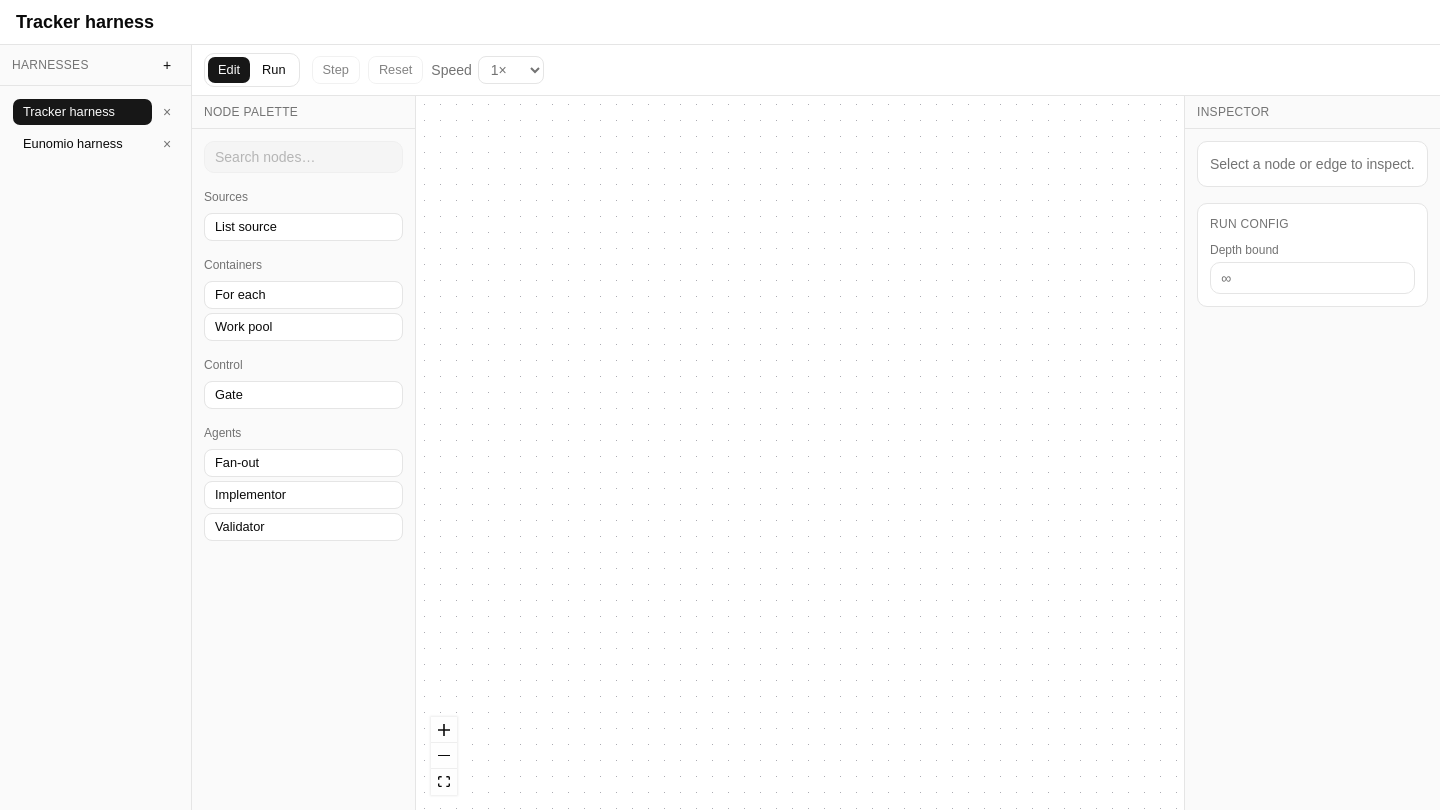
harness sidebar › renames a harness via Enter and updates the title
Double-click the button "Tracker harness" at (82, 112), box [12,98,153,126]
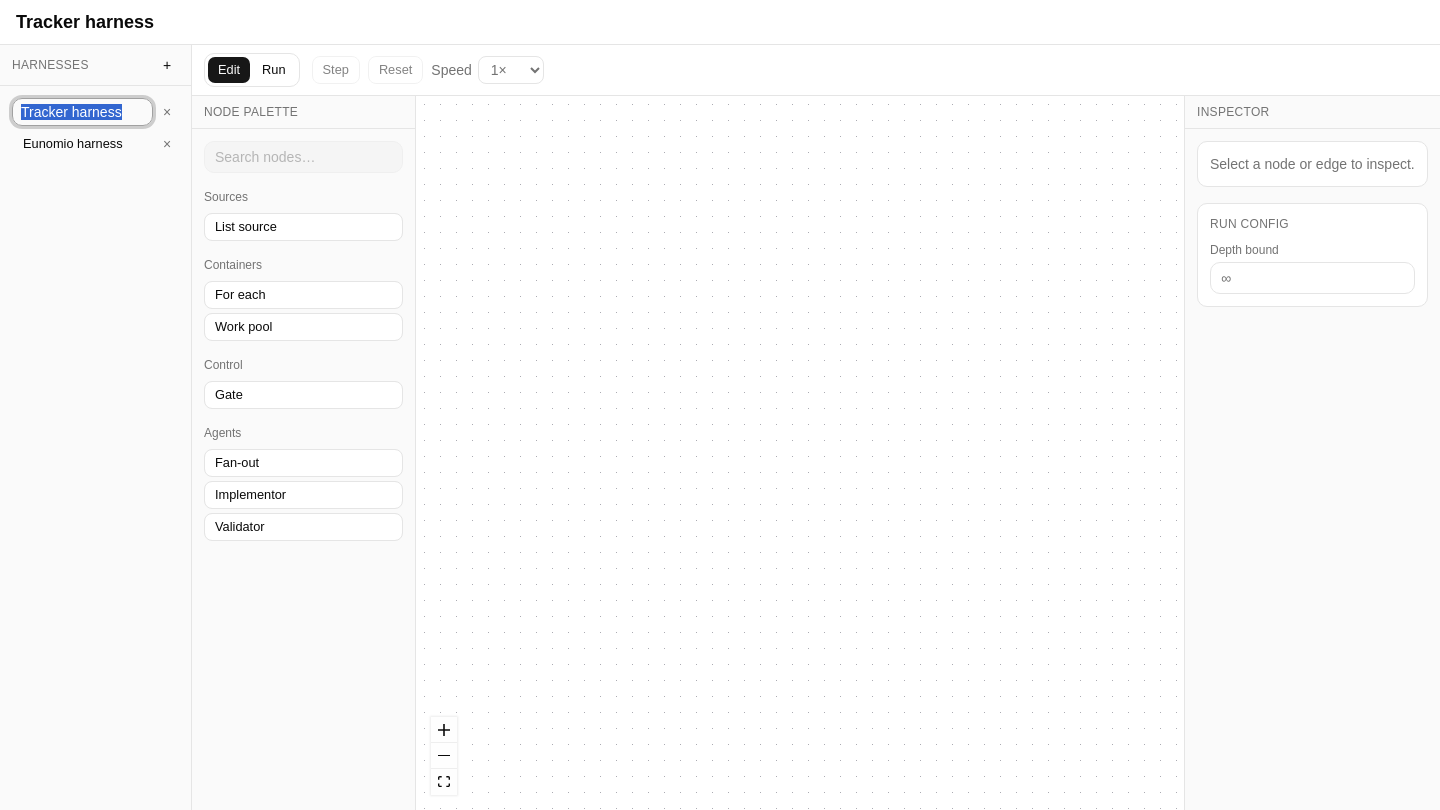
Replace the text in the field named "Rename Tracker harness" with "My Tracker" at (82, 112), box [12,98,153,126]
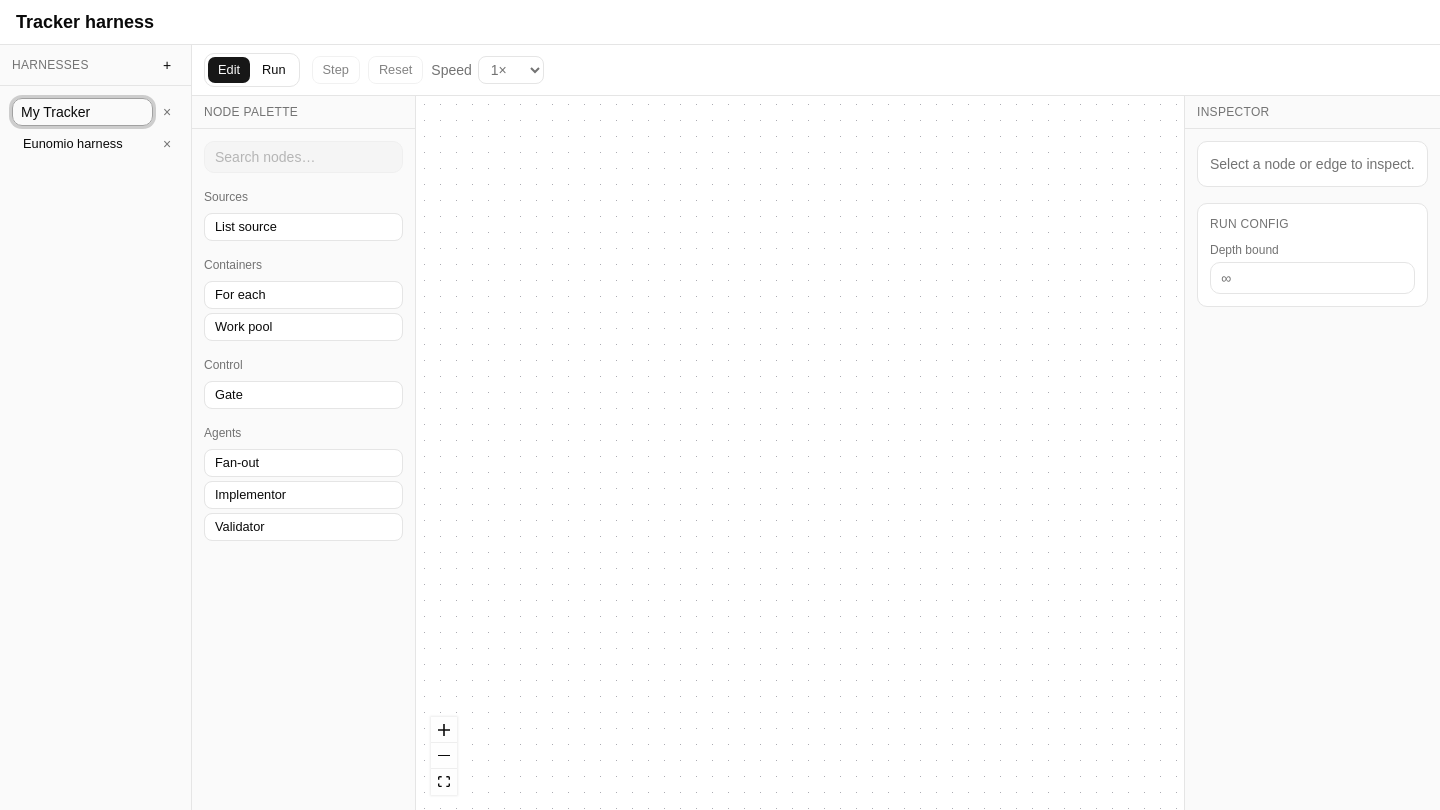
Press Enter in the field named "Rename Tracker harness", box [12,98,153,126]
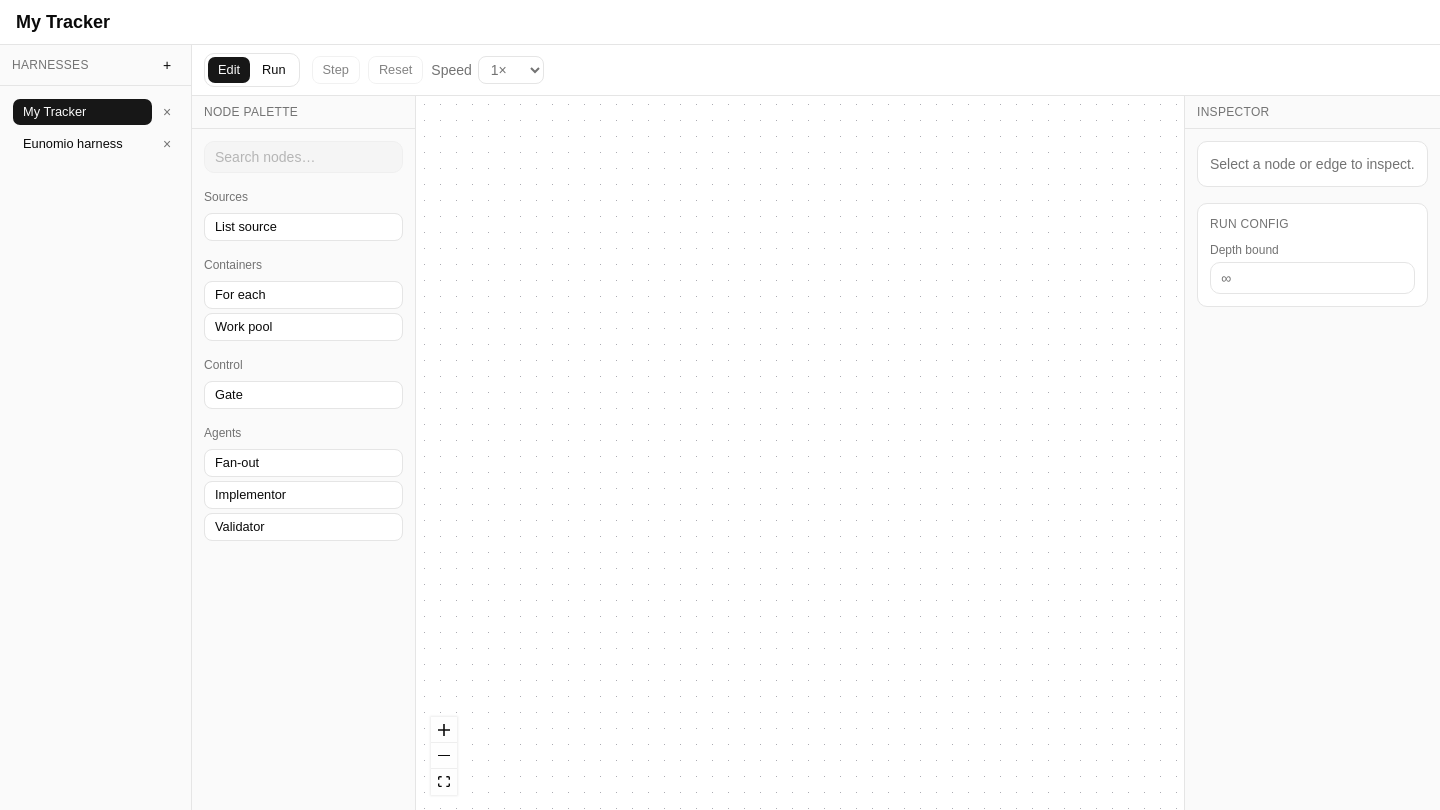
Expected: the heading with test id "harness-title" reads "My Tracker", [16,12,110,32]
